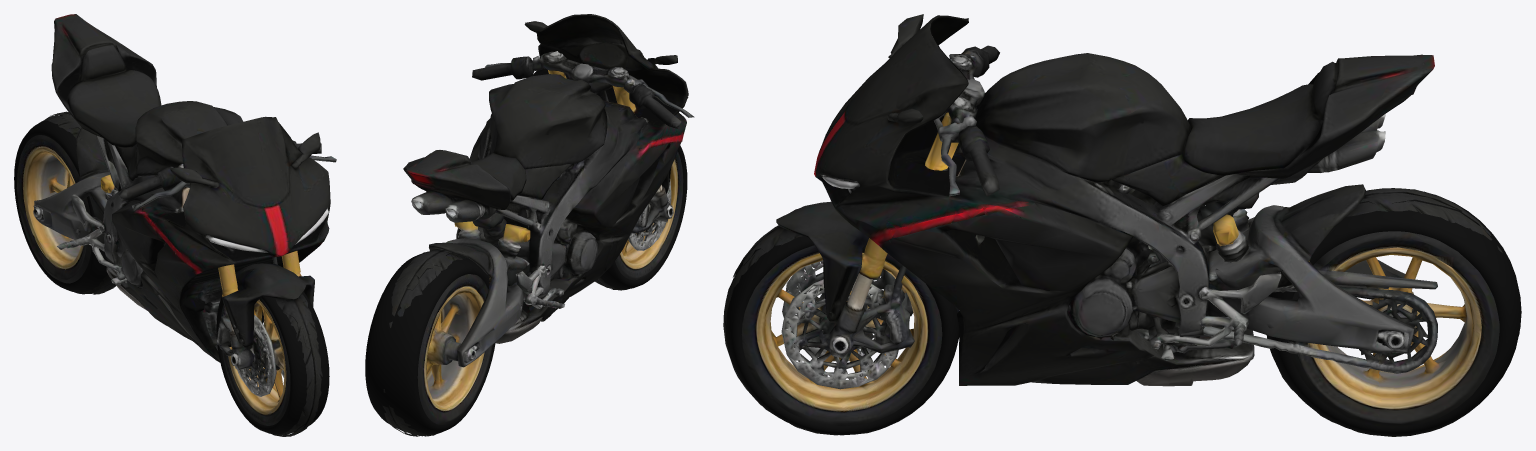
The model's file is bike.glb.
3 renders of one model, left to right at view 1: azimuth 30°, elevation 25°; view 2: azimuth 150°, elevation 25°; view 3: azimuth 270°, elevation 25°, orthographic. The views are drawn at different scales.
Parts seen in each view (by area): view 1: body, wheel_f, wheel_r; view 2: body, wheel_r, wheel_f; view 3: body, wheel_r, wheel_f.
Part boxes in pixels (bbox=[...]): body: bbox=[33, 14, 336, 436]; wheel_f: bbox=[216, 281, 329, 435]; wheel_r: bbox=[14, 115, 115, 294]; body: bbox=[394, 14, 694, 436]; wheel_r: bbox=[365, 248, 495, 435]; wheel_f: bbox=[595, 145, 687, 289]; body: bbox=[733, 14, 1462, 434]; wheel_r: bbox=[1266, 188, 1521, 436]; wheel_f: bbox=[723, 233, 959, 435].
Bounding box in the file's own units: 0.8429 × 1.13 × 2.02.
1 material, 1 textured.
